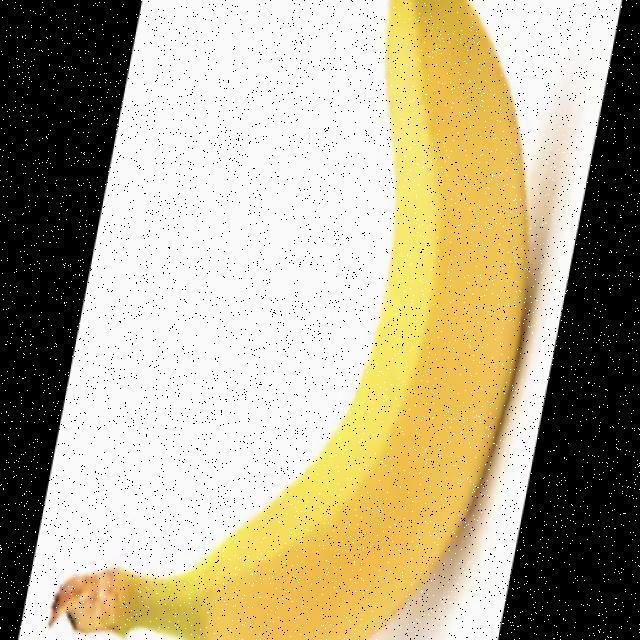god quality banana: (49, 2, 528, 640)
